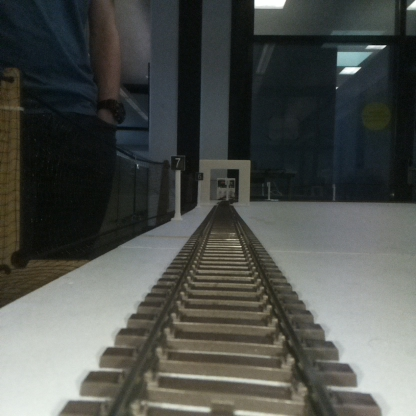black-info-7: (170, 155, 185, 220)
